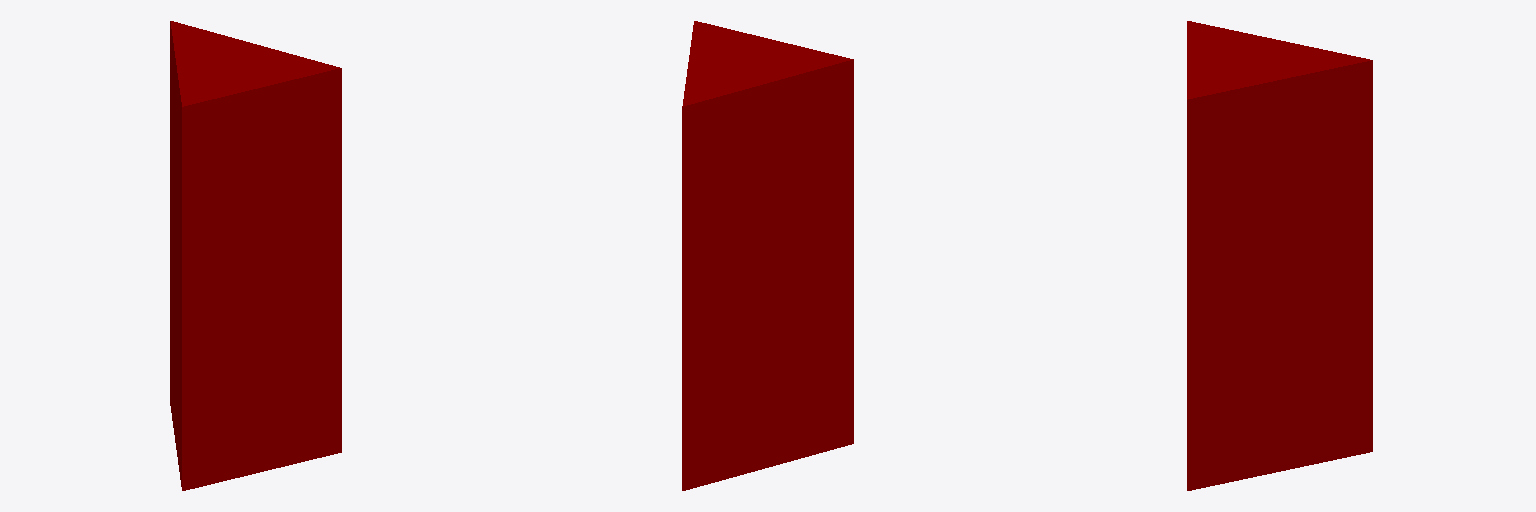
robot.urdf — prism:
<?xml version="1.0"?>
<robot name="prism" xmlns:drake="https://drake.mit.edu/">
    <link name="body">
        <inertial>
            <origin xyz="0 0 0" rpy="0 0 0"/>
            <mass value="0.056" />
            <inertia
                ixx="0.00010416"
                ixy="0"
                ixz="0"
                iyy="0.00031107"
                iyz="0"
                izz="0.00028084"/>
        </inertial>
        <visual>
            <origin xyz="0 0 0" rpy="0 0 0" />
            <geometry>
                <mesh filename="gt_prism_simple.obj"/>
            </geometry>
            <material name="pennred">
                <color rgba="0.6 0 0 1.0" />
            </material>
        </visual>
        <collision>
            <geometry>
                <mesh filename="gt_prism_simple.obj"/>
            </geometry>
            <origin xyz="0 0 0" rpy="0 0 0" />
            <drake:proximity_properties>
                <drake:mu_static value="0.15" />
            </drake:proximity_properties>
        </collision>
    </link>
</robot>

--- Facts derived from the render (not from the file) ---
The picture shows the robot from 3 angles, left to right: view 1: azimuth 30°, elevation 25°; view 2: azimuth 150°, elevation 25°; view 3: azimuth 270°, elevation 25°; orthographic projection.
Model prism with 1 links and 0 joints (none), rooted at body, posed all joints at 0.
Visible links, largest first — view 1: body; view 2: body; view 3: body.
Link boxes in pixels (bbox=[...]): body: bbox=[170, 21, 341, 490]; body: bbox=[682, 21, 853, 490]; body: bbox=[1187, 21, 1372, 490].
Size in the robot's own frame: 0.072 by 0.0716 by 0.166 metres.
1 mesh visuals loaded from 1 distinct referenced files (1 OBJ).
